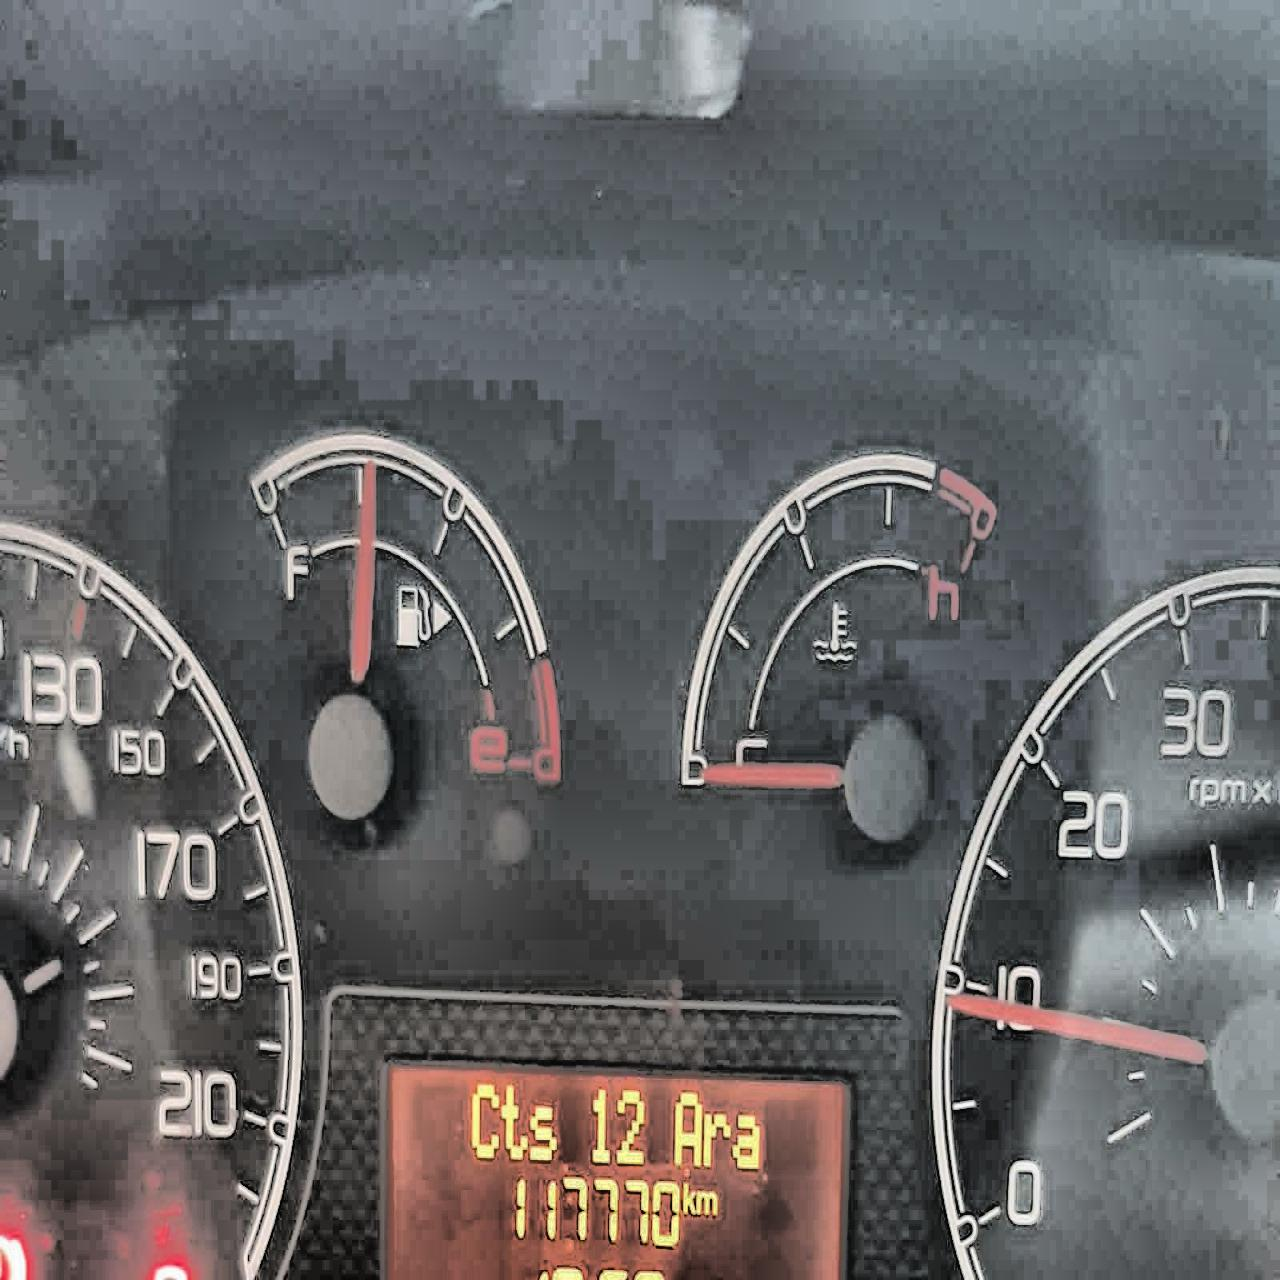0: (651, 1175, 681, 1250)
1: (586, 1084, 612, 1166), (510, 1170, 531, 1242), (542, 1175, 557, 1245)
2: (613, 1083, 646, 1167)
7: (591, 1171, 621, 1246), (559, 1171, 590, 1244), (622, 1172, 648, 1248)
X: (670, 1083, 701, 1169), (469, 1076, 499, 1162), (501, 1078, 527, 1163), (731, 1109, 763, 1173), (529, 1097, 558, 1164), (702, 1108, 730, 1169), (695, 1185, 719, 1217), (681, 1175, 694, 1217)
odometer: (372, 1050, 860, 1279)
